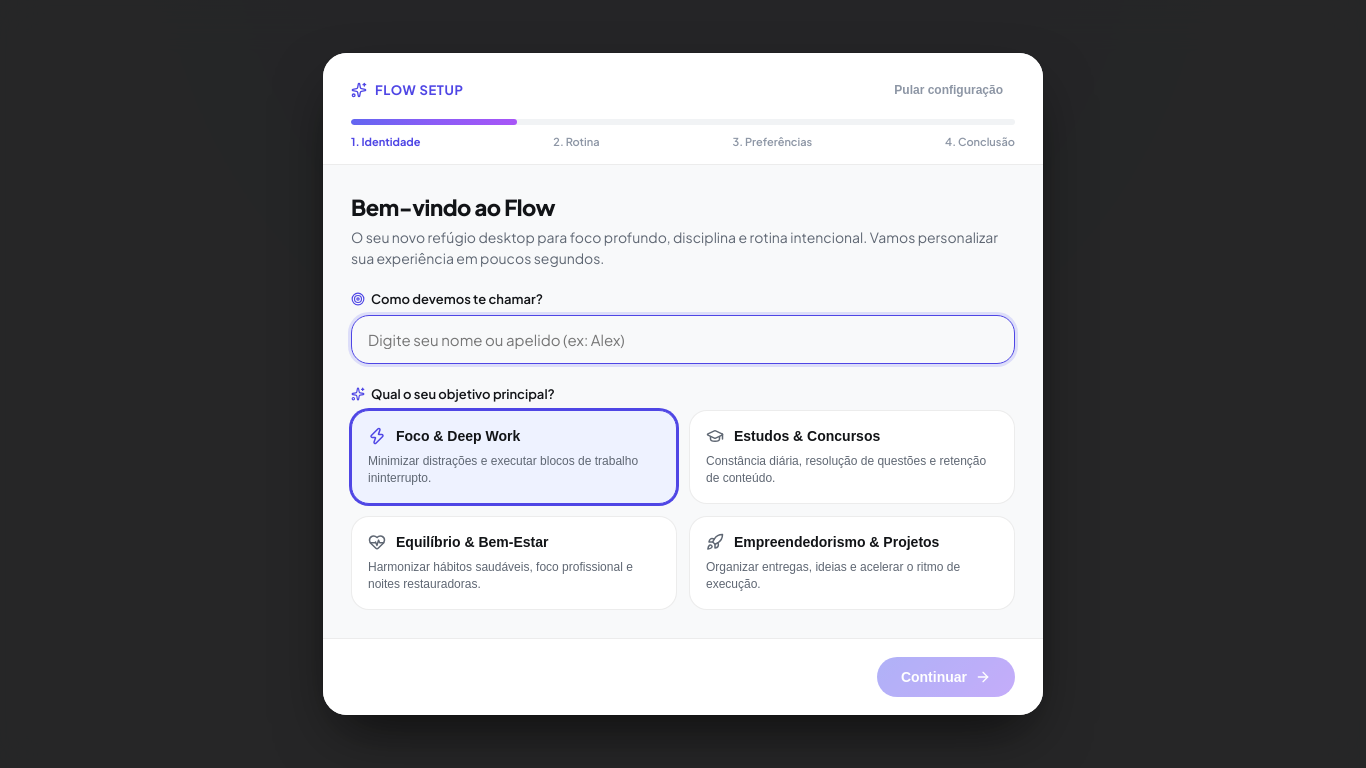
Test: OnboardingWizard Component › deve permitir voltar para o passo anterior com o botão Voltar
Step 1. Type "Lucas" into the field with placeholder "Digite seu nome ou apelido (ex: Alex)" → [683, 340], box [351, 315, 1015, 364]
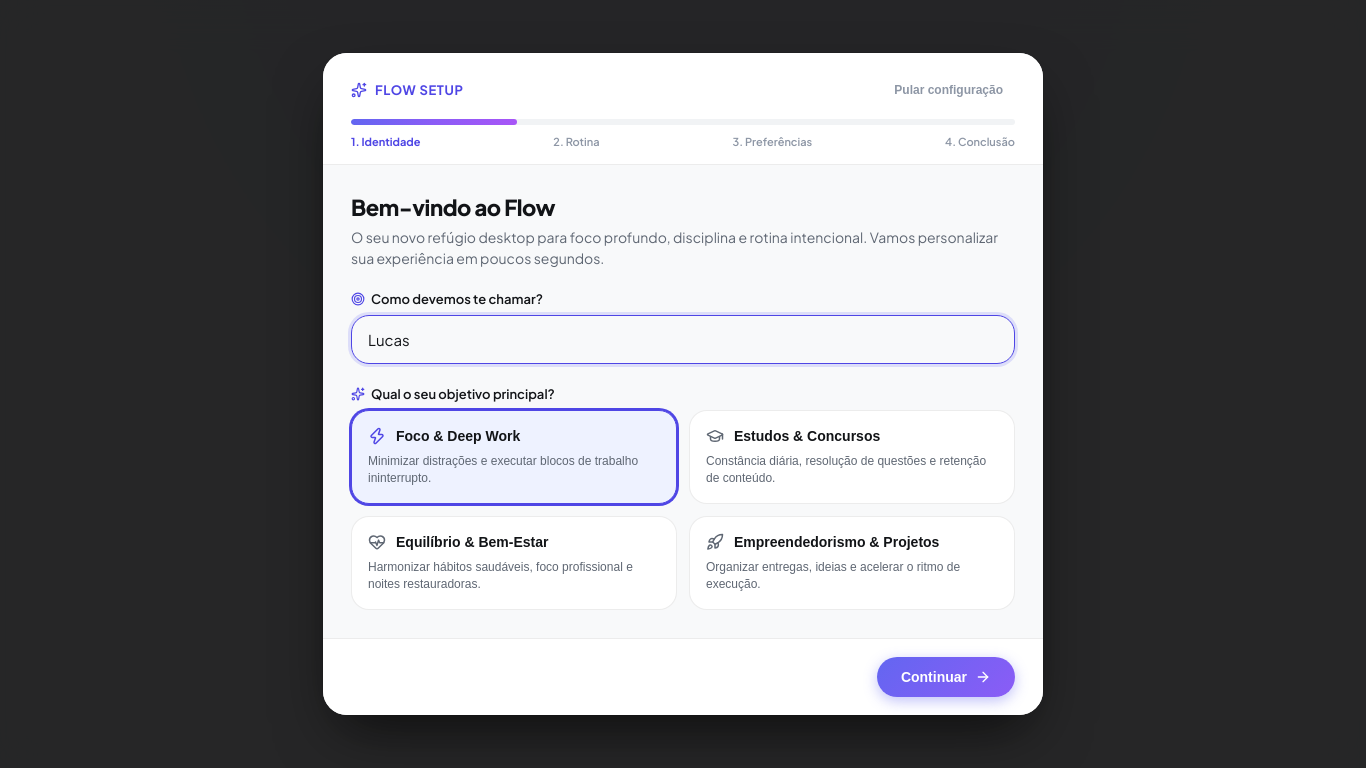
Step 2. Click the button "Continuar" → [946, 677], box [877, 657, 1015, 697]
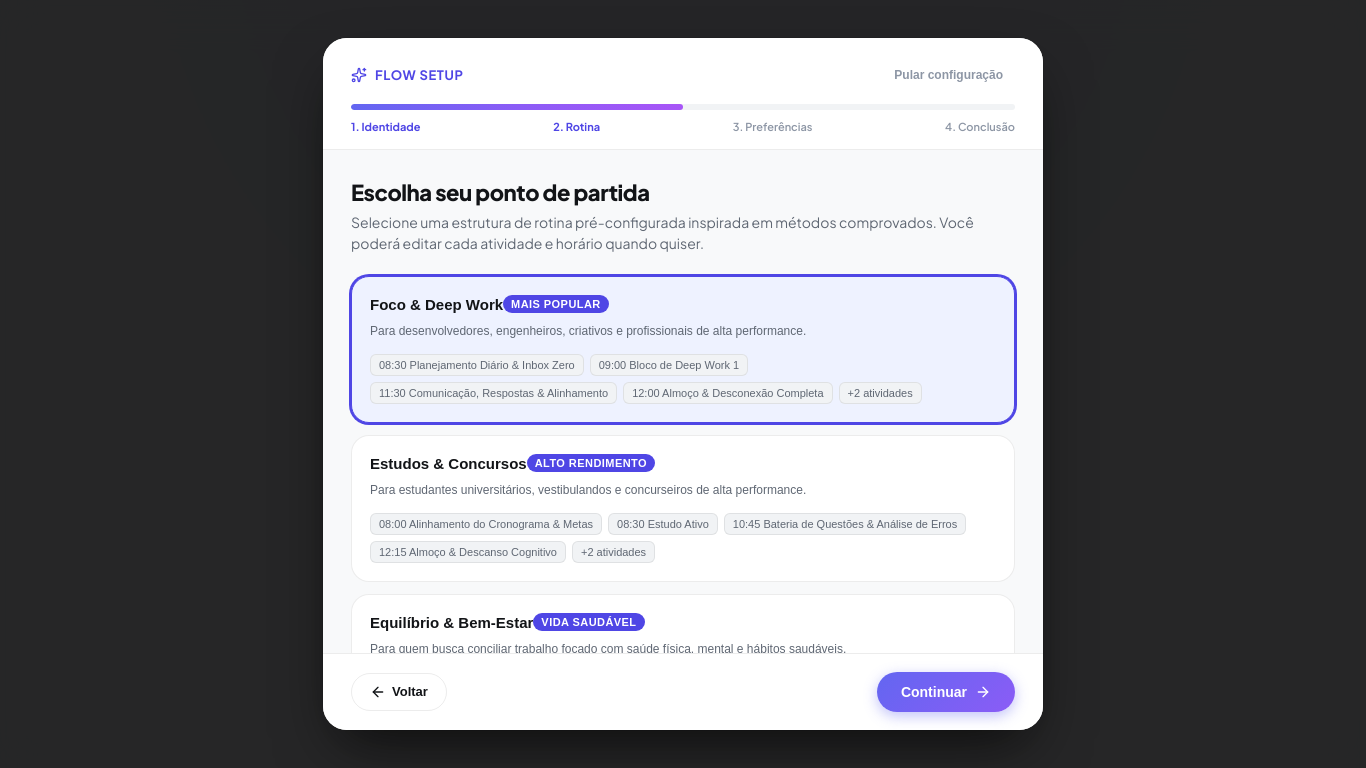
Check: the heading "Escolha seu ponto de partida" is shown, box [351, 178, 650, 206]
Step 3. Click the button "Voltar" → [399, 692], box [351, 673, 447, 711]
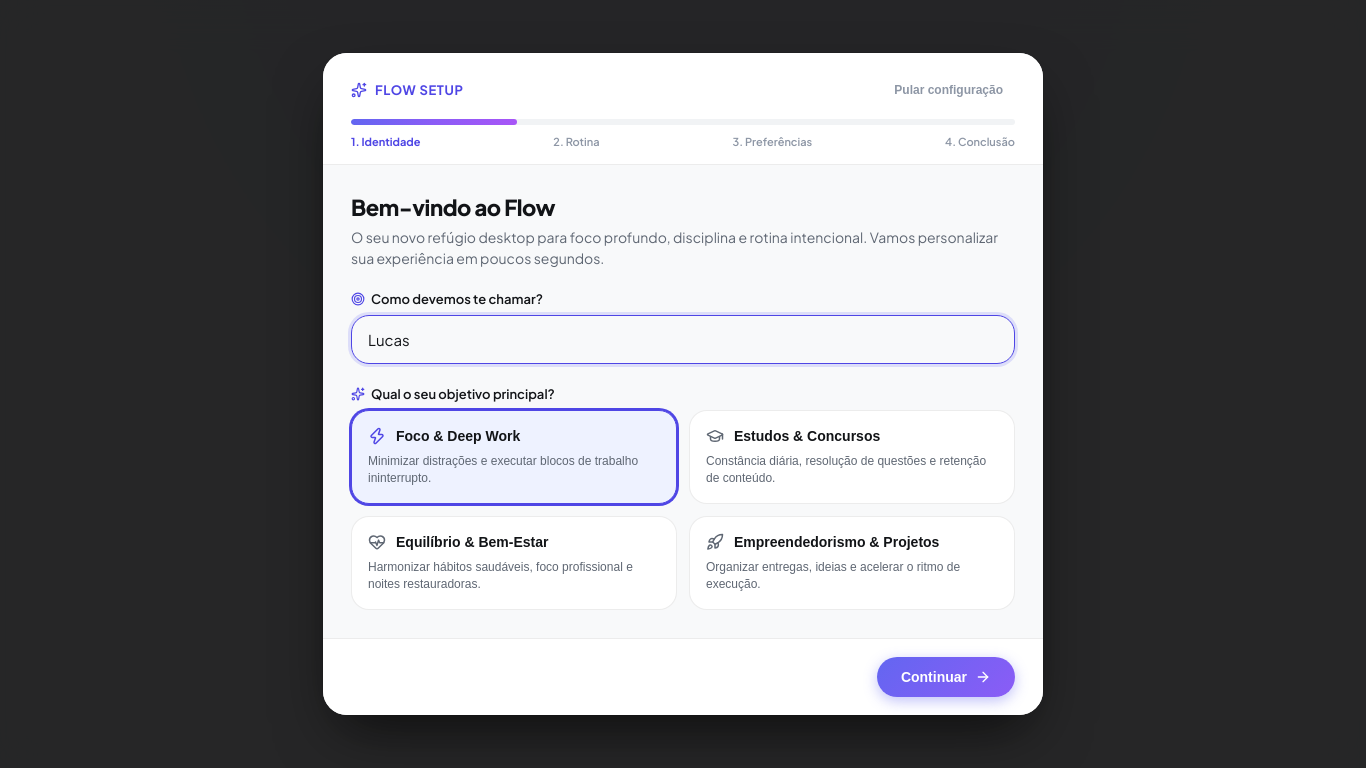
Check: the heading "Bem-vindo ao Flow" is shown, box [351, 193, 555, 221]
Check: the field showing "Lucas" is shown, box [351, 315, 1015, 364]
